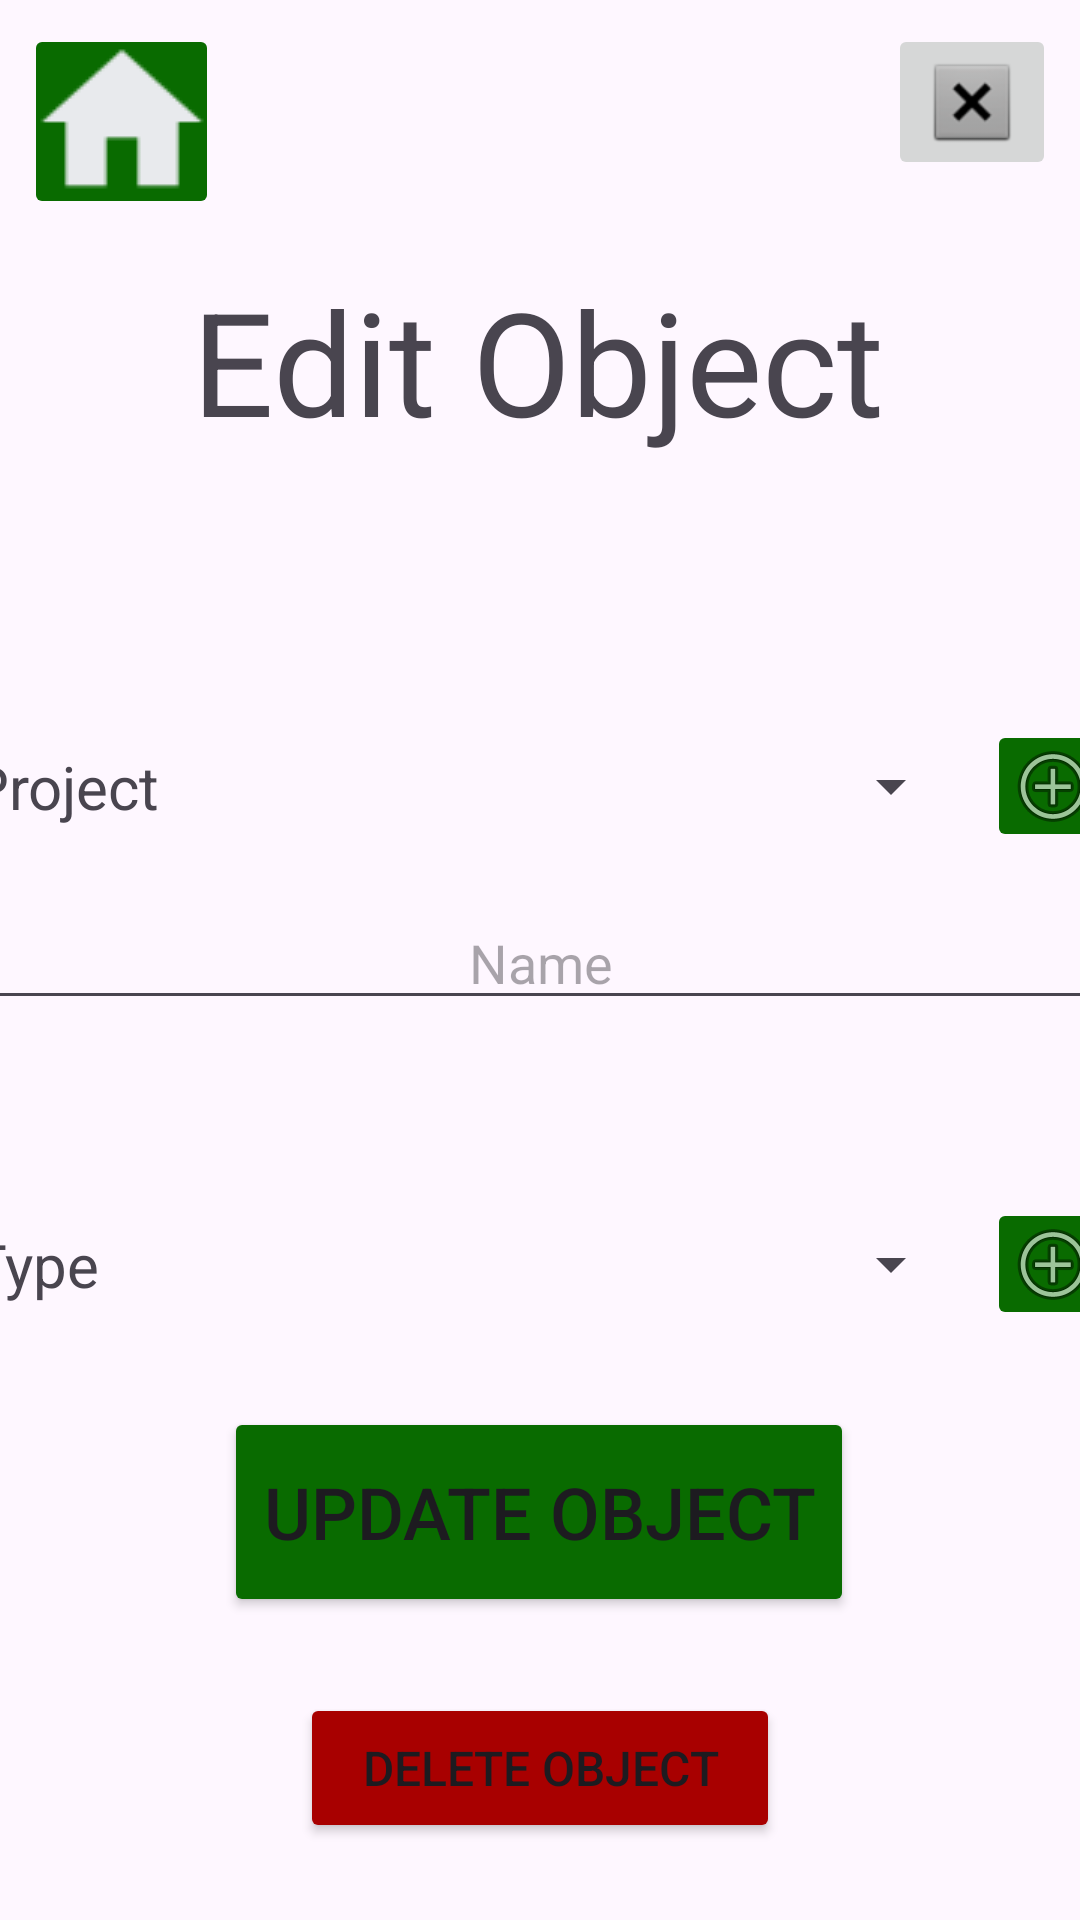

Named icons in this screenshot (1080px x 1920px) and their centers, [x,y]:
homebtn: [121,121]
